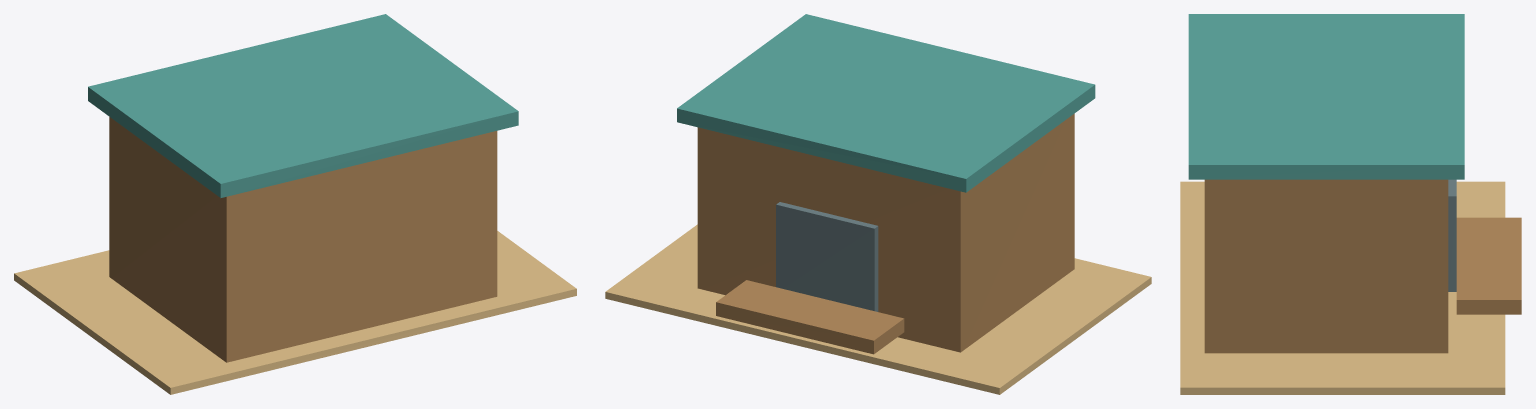
Rendered from automated-warehouse.source.glb.
3 renders of one model, left to right at view 1: azimuth 30°, elevation 25°; view 2: azimuth 150°, elevation 25°; view 3: azimuth 270°, elevation 25°, orthographic. The views are drawn at different scales.
Visible parts, largest first — view 1: automated-warehouse-body-mesh, automated-warehouse-roof-mesh, automated-warehouse-pad-mesh; view 2: automated-warehouse-body-mesh, automated-warehouse-roof-mesh, automated-warehouse-pad-mesh, automated-warehouse-loading-bay-mesh, automated-warehouse-conveyor-mesh; view 3: automated-warehouse-roof-mesh, automated-warehouse-body-mesh, automated-warehouse-pad-mesh, automated-warehouse-conveyor-mesh, automated-warehouse-loading-bay-mesh.
Part boxes in pixels (bbox=[...]): automated-warehouse-body-mesh: bbox=[109, 117, 497, 362]; automated-warehouse-roof-mesh: bbox=[88, 14, 518, 197]; automated-warehouse-pad-mesh: bbox=[14, 231, 576, 394]; automated-warehouse-body-mesh: bbox=[697, 113, 1074, 352]; automated-warehouse-roof-mesh: bbox=[677, 14, 1095, 192]; automated-warehouse-pad-mesh: bbox=[605, 224, 1151, 394]; automated-warehouse-loading-bay-mesh: bbox=[776, 202, 878, 311]; automated-warehouse-conveyor-mesh: bbox=[716, 280, 904, 354]; automated-warehouse-roof-mesh: bbox=[1188, 14, 1464, 179]; automated-warehouse-body-mesh: bbox=[1204, 179, 1448, 353]; automated-warehouse-pad-mesh: bbox=[1180, 181, 1505, 394]; automated-warehouse-conveyor-mesh: bbox=[1456, 217, 1521, 314]; automated-warehouse-loading-bay-mesh: bbox=[1448, 179, 1456, 291].
Size of the model in its own units: 6 by 2.75 by 4.2.
